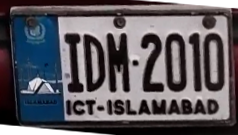0: (163, 31, 188, 94), (202, 31, 227, 93)
1: (186, 31, 204, 95)
2: (138, 32, 165, 94)
D: (82, 32, 107, 95)
I: (63, 31, 85, 95)
M: (105, 31, 133, 95)
